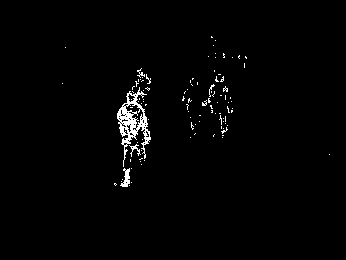person: (116, 93, 152, 188), (208, 74, 232, 138), (180, 76, 204, 138)
